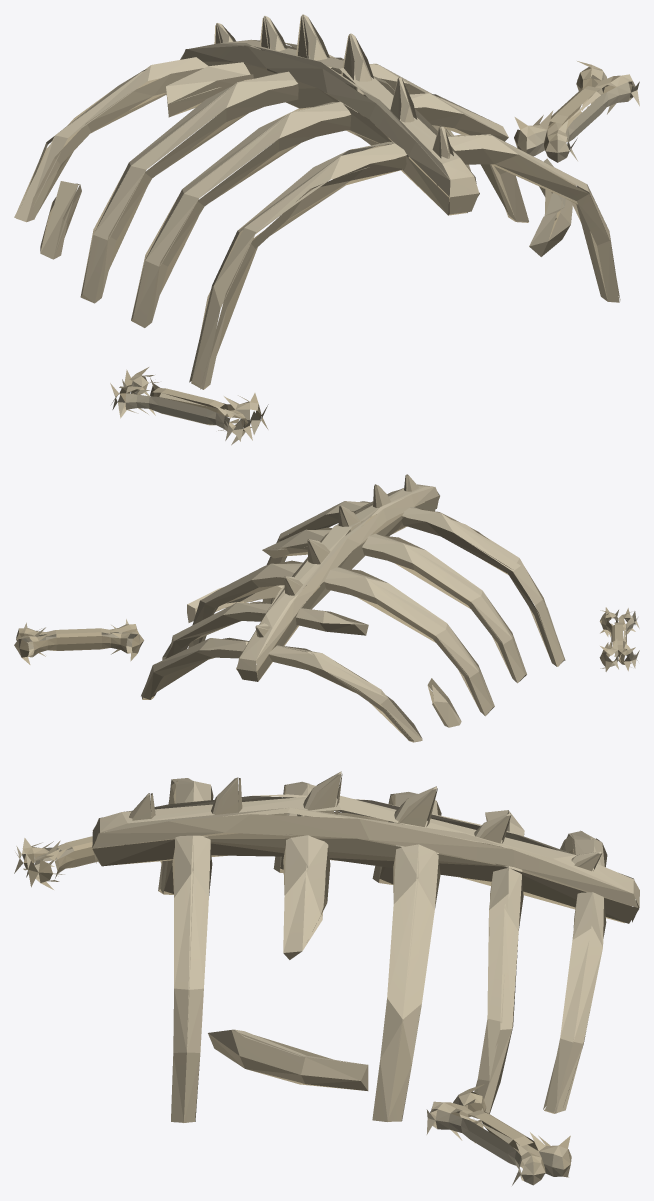
File: DressBones.glb
3 renders of one model, top to bottom at view 1: azimuth 30°, elevation 25°; view 2: azimuth 150°, elevation 25°; view 3: azimuth 270°, elevation 25°, orthographic. The views are drawn at different scales.
Parts seen in each view (by area): view 1: DressBones; view 2: DressBones; view 3: DressBones.
Boxes of the visible parts, x1,y1,x2,y2 form: DressBones: [14, 14, 639, 445]; DressBones: [14, 474, 639, 742]; DressBones: [14, 771, 639, 1185].
Bounding box in the file's own units: 2.59 × 0.8821 × 1.94.
